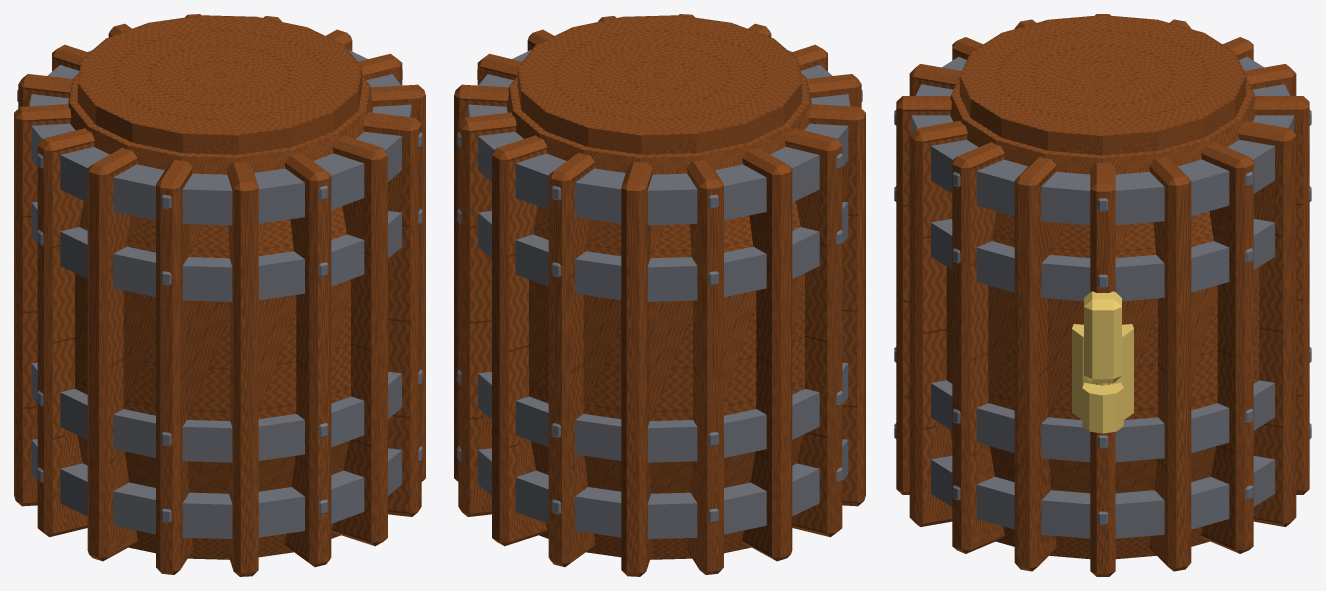
The model's file is fantasy-mmo-city-and-townsfolk-ale-barrel-4d777ea5__32755.glb.
The picture shows the model from 3 angles, left to right: view 1: azimuth 30°, elevation 25°; view 2: azimuth 150°, elevation 25°; view 3: azimuth 270°, elevation 25°; orthographic projection.
Visible parts, largest first — view 1: ale-barrel; view 2: ale-barrel; view 3: ale-barrel.
Part boxes in pixels (box(x1,y1,x2,y2)): ale-barrel: box(14, 14, 425, 576); ale-barrel: box(454, 14, 865, 576); ale-barrel: box(894, 14, 1311, 576).
Bounding box in the file's own units: 1.05 × 1.1 × 0.99.
Materials: 3 (1 with a texture image).
